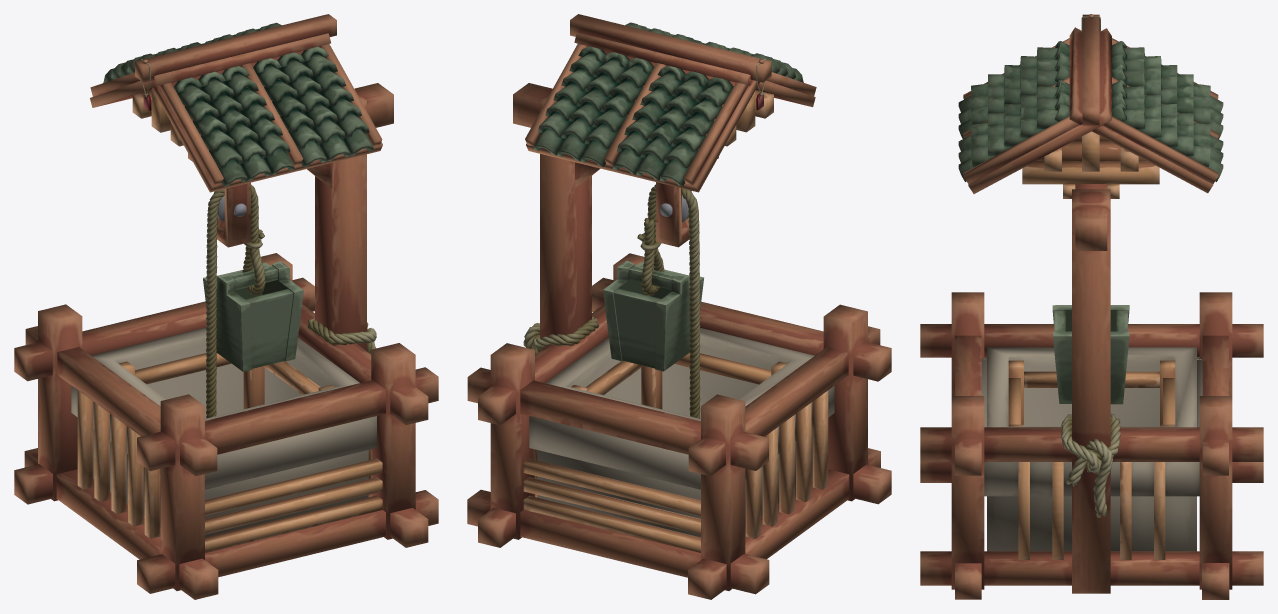
Rendered from Dream2_Well.glb.
3 views of the same model, side by side, from view 1: azimuth 30°, elevation 25°; view 2: azimuth 150°, elevation 25°; view 3: azimuth 270°, elevation 25° (orthographic).
Parts seen in each view (by area): view 1: Cube.022, Cube.046; view 2: Cube.022, Cube.046; view 3: Cube.022, Cube.046.
Boxes of the visible parts, box(x1,y1,x2,y2) form: Cube.022: box(14, 14, 438, 599); Cube.046: box(203, 261, 303, 371); Cube.022: box(467, 14, 891, 599); Cube.046: box(603, 260, 703, 371); Cube.022: box(920, 14, 1263, 599); Cube.046: box(1052, 305, 1129, 404).
Bounding box in the file's own units: 5.28 × 7.83 × 5.12.
Materials: 1 (1 with a texture image).
